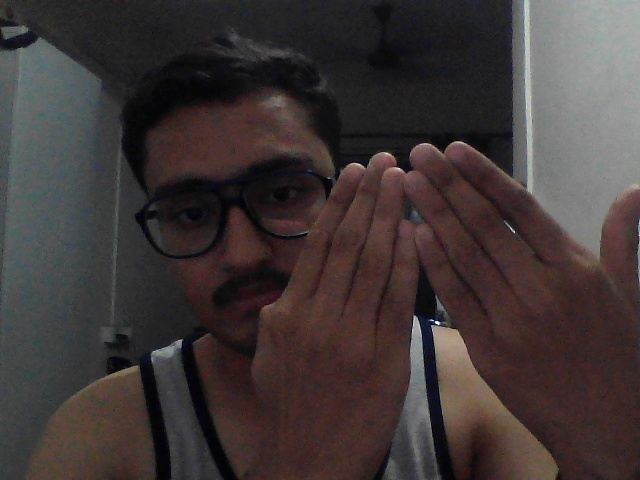Thank You: (240, 101, 640, 480)
